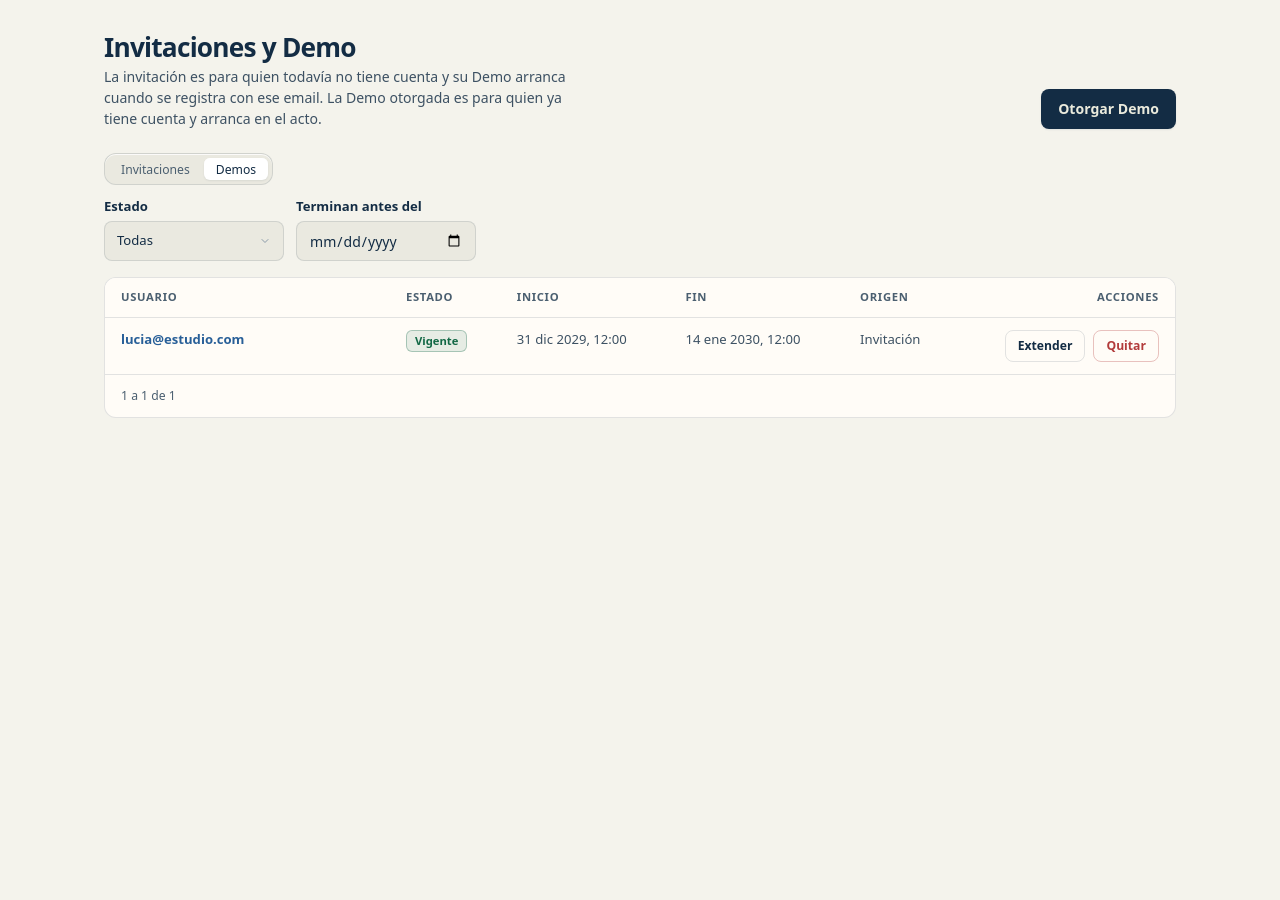
Test: InvitationsScreen › does not warn when the subscription no longer gives access
This screenshot has width=1280, height=900.
Expected: the link "lucia@estudio.com" is shown, [121,330,244,348]
Click the button "Otorgar Demo". click: (1109, 110)
box: [1041,90,1176,130]
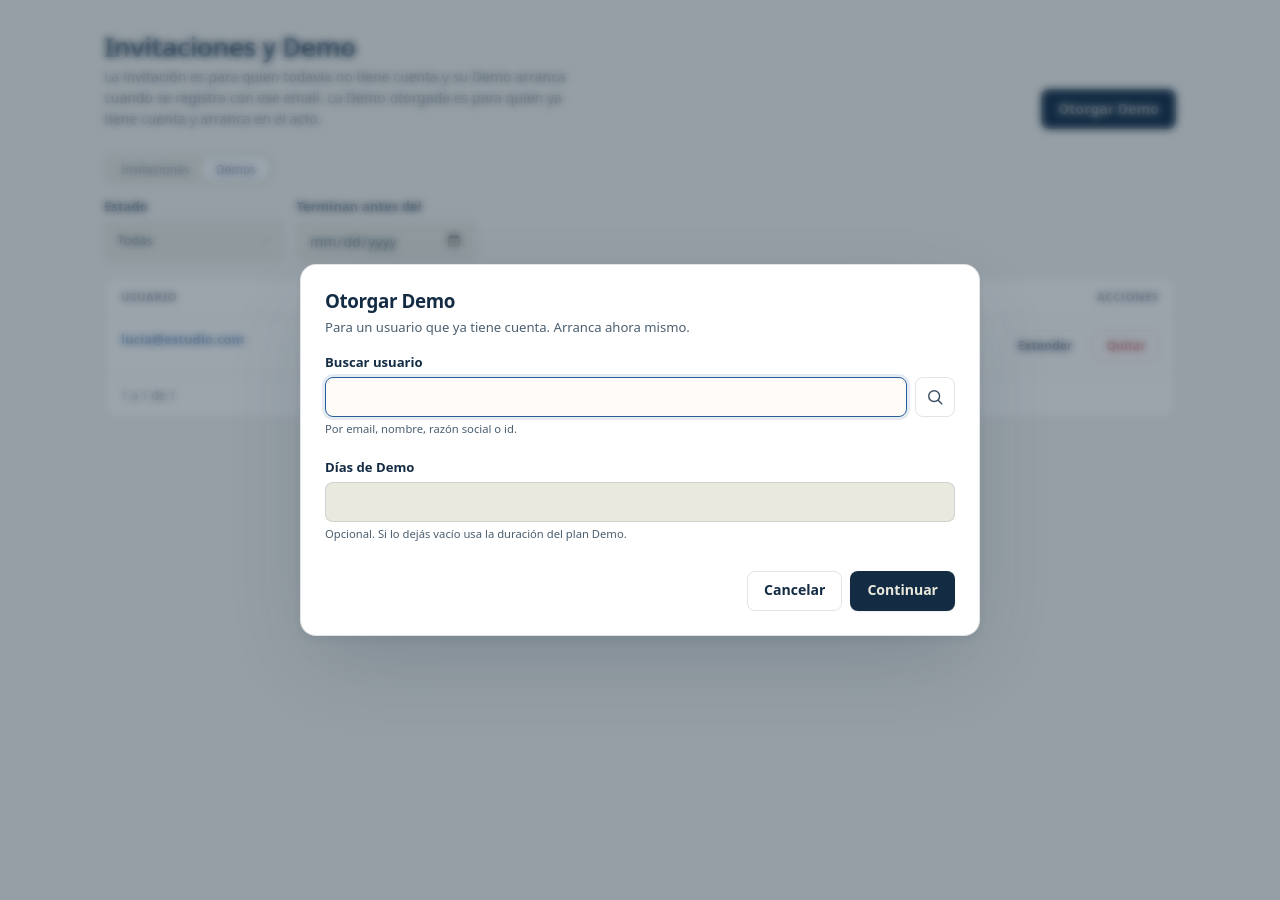
Type "diego" into the search field labelled "Buscar usuario". click: (616, 397)
box: [325,377,907,417]
Then press Enter
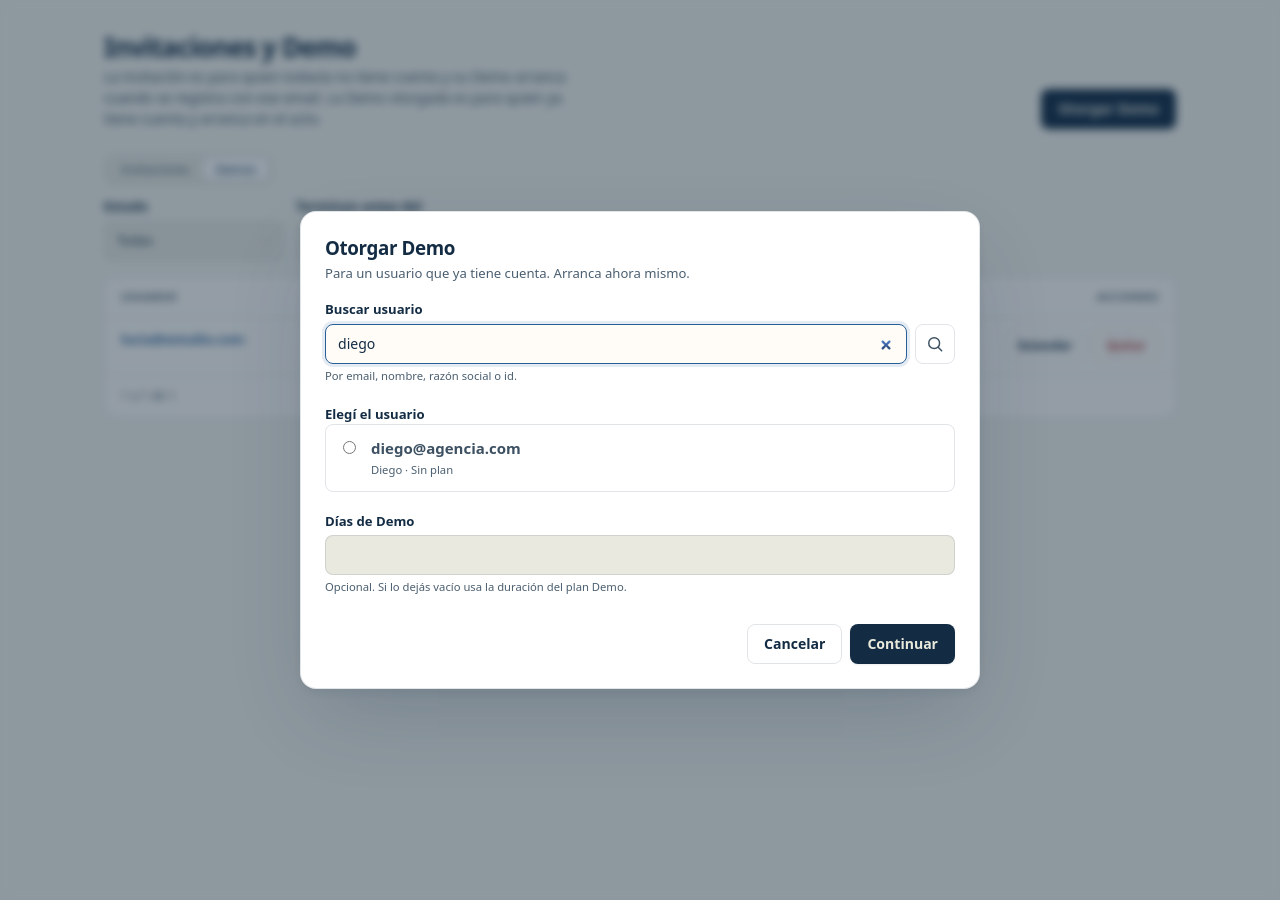
Click the radio button labelled "diego@agencia.com Diego · Sin plan". click: (350, 448)
box: [343,441,356,454]
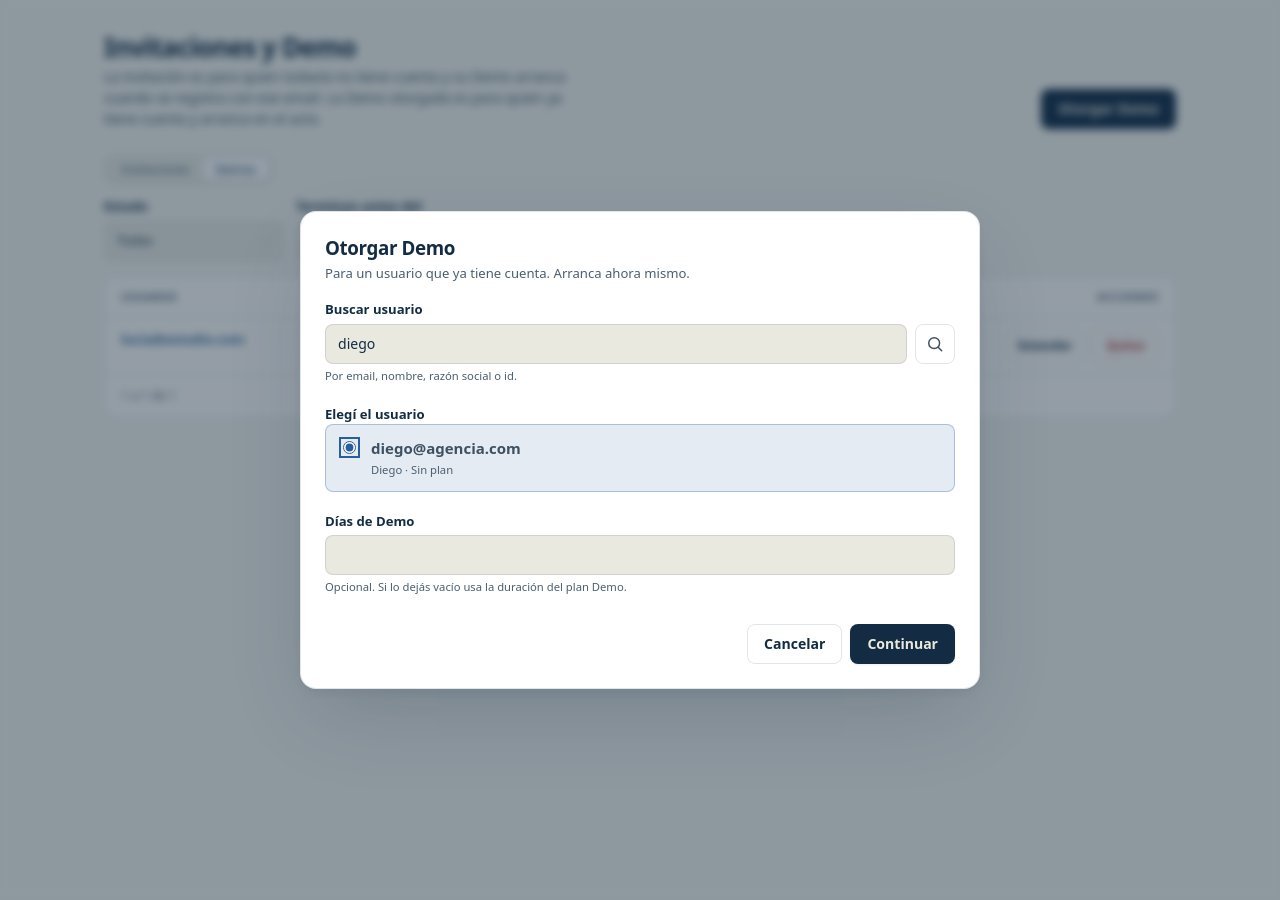
Click the button "Continuar". click: (903, 644)
box: [850,624,955,664]
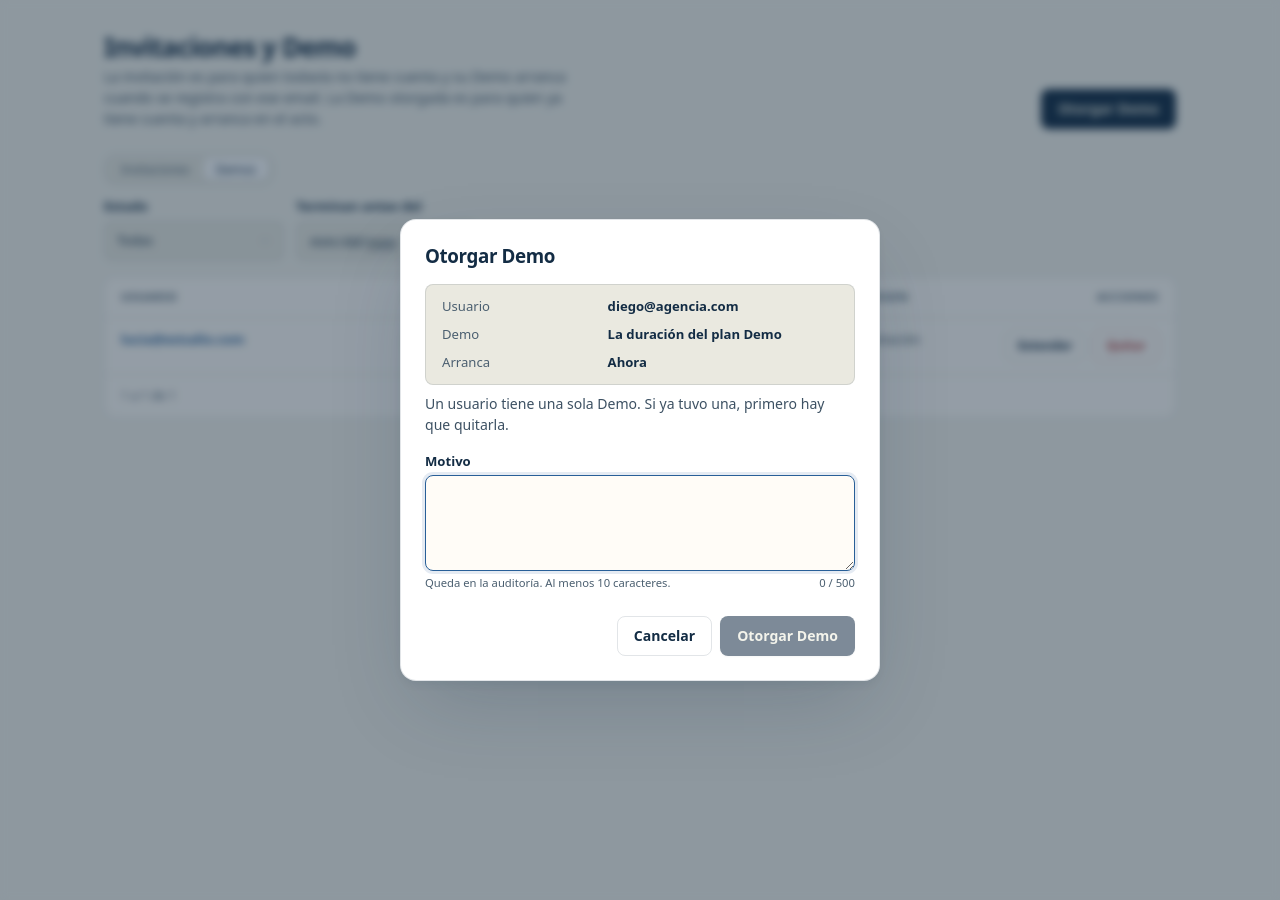
Expected: the text box labelled "Motivo" is shown, [425,475,855,571]
